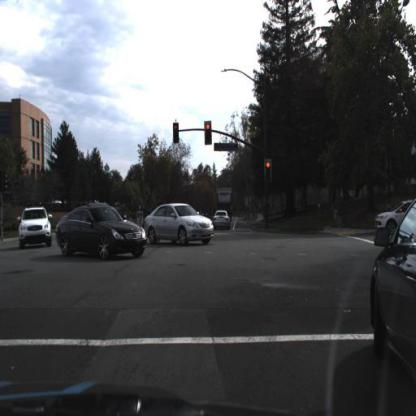biker: (327, 198, 350, 232), (329, 196, 347, 232)
car: (370, 192, 416, 402), (55, 202, 147, 261), (145, 205, 213, 243), (18, 208, 52, 249), (375, 199, 411, 234)
trafficLight-Red: (264, 159, 274, 188), (203, 120, 213, 147)
trafficLight-RedLeft: (173, 121, 181, 147)
truck: (216, 185, 234, 213), (217, 188, 233, 216)
